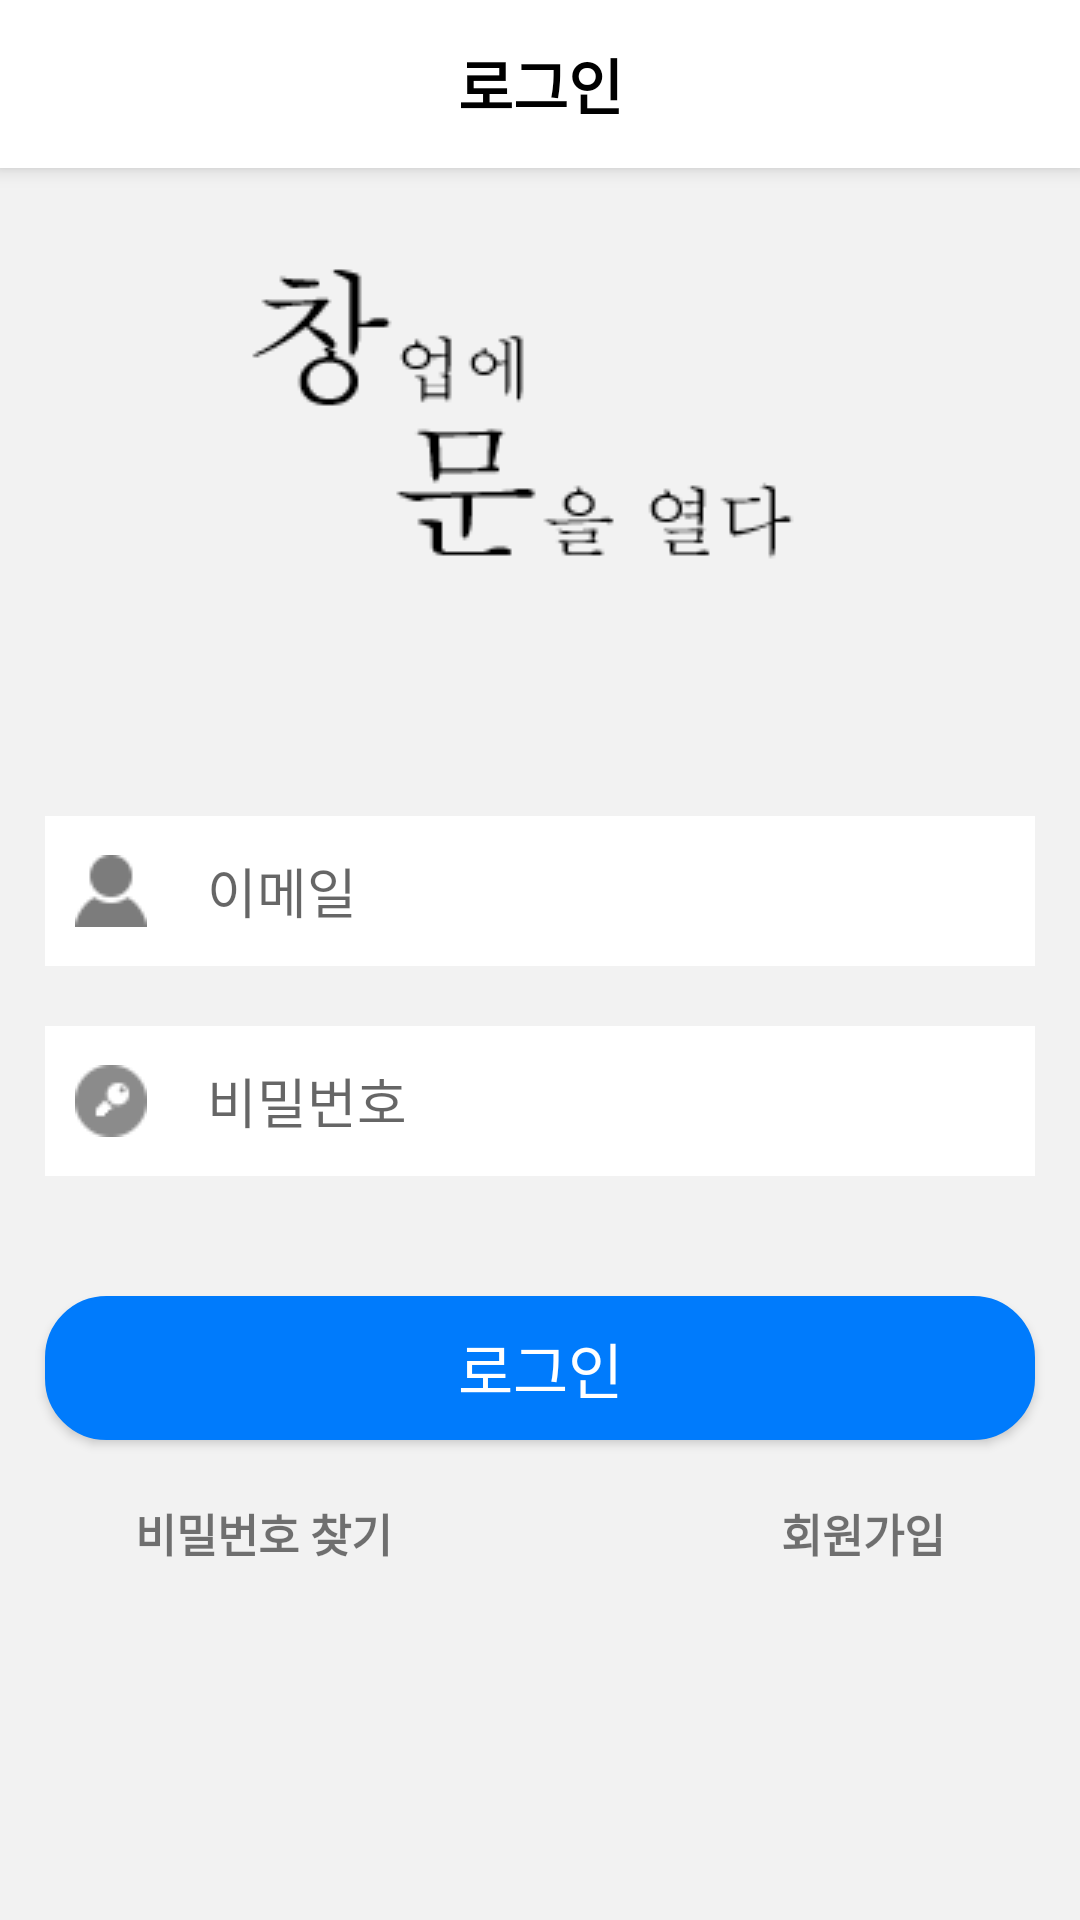

Named icons in this screenshot (1080×1920) and their centers, (x=x, y=y):
password: (x=111, y=1101)
person: (x=111, y=891)
